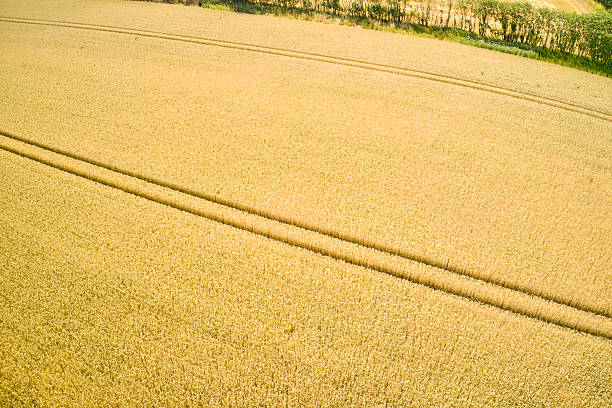vehicle_track: (0, 137, 611, 339), (0, 130, 611, 318), (0, 16, 611, 121)
